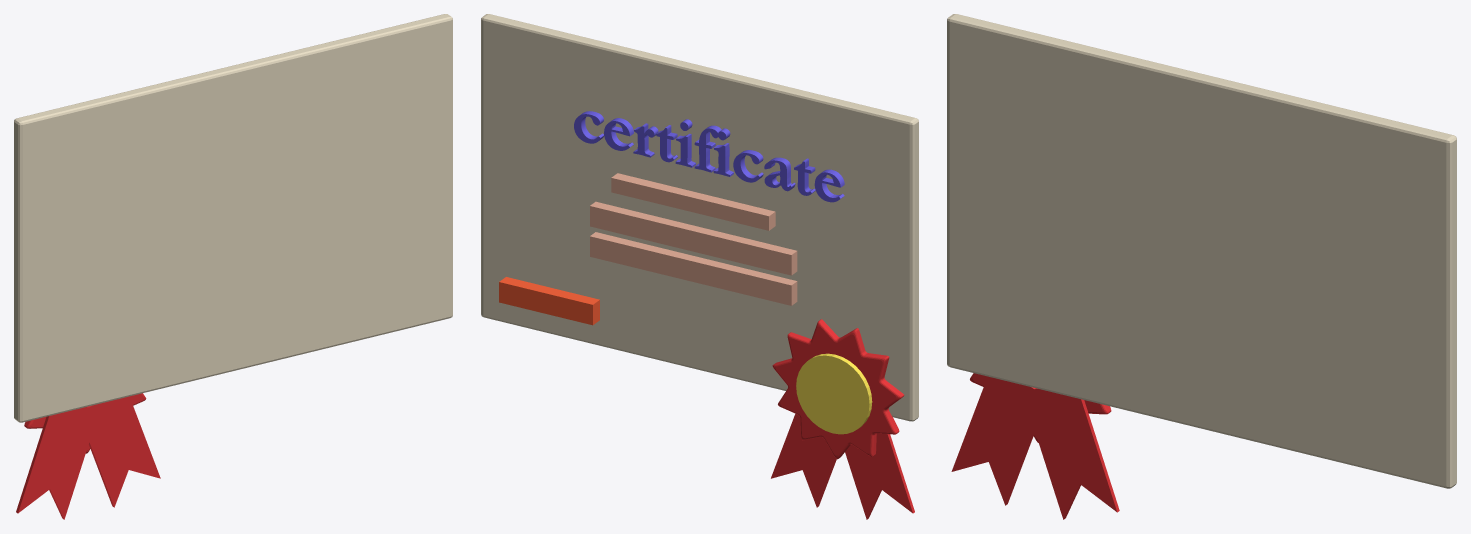
The model's file is certificate.fbx.
3 renders of one model, left to right at view 1: azimuth 30°, elevation 25°; view 2: azimuth 150°, elevation 25°; view 3: azimuth 330°, elevation 25°, orthographic. The views are drawn at different scales.
Visible parts, largest first — view 1: Circle; view 2: Circle; view 3: Circle.
Part boxes in pixels (box(x1,y1,x2,y2)): Circle: box(14, 14, 452, 519); Circle: box(481, 14, 918, 519); Circle: box(947, 14, 1456, 519).
Size of the model in its own units: 302 by 273 by 16.79.
